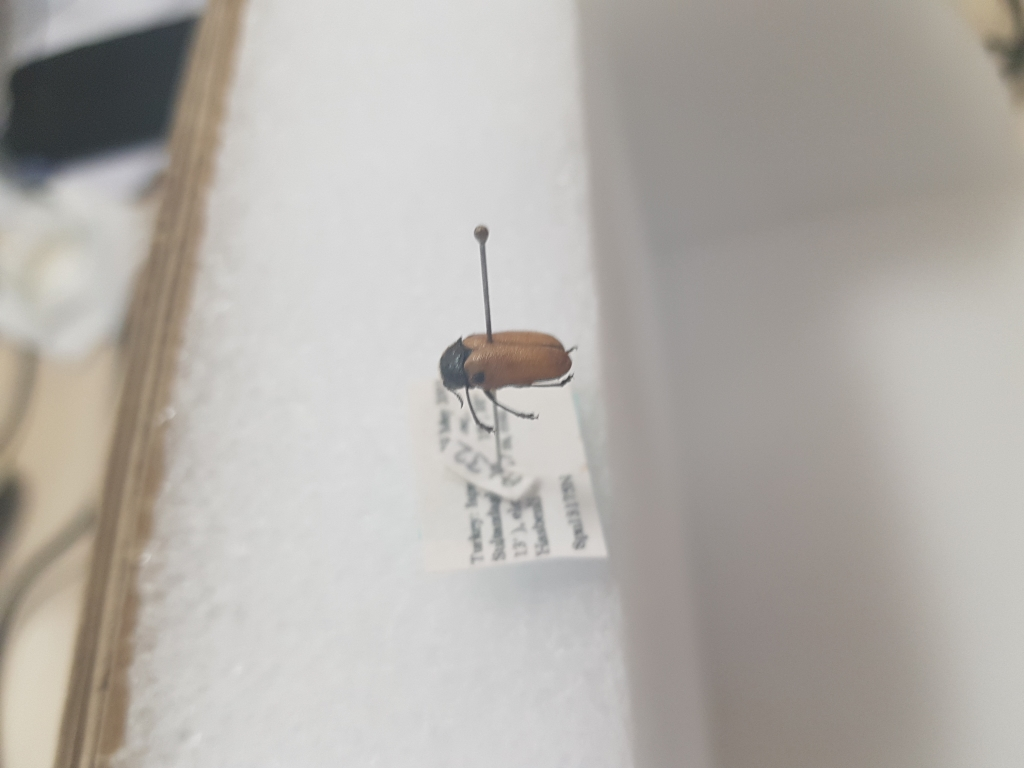Labidostomis_asiatica: (435, 326, 583, 436)
